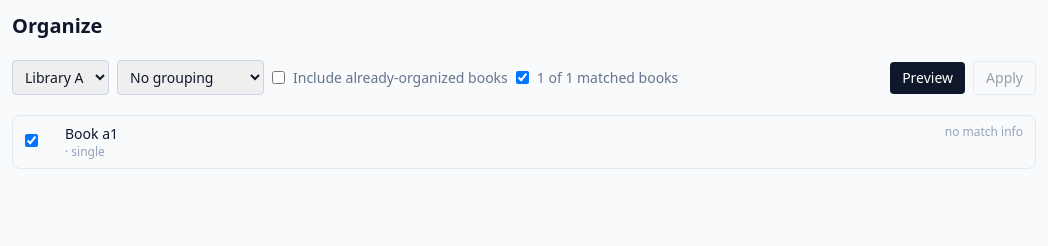
OrganizePage all-no-op plan › disables Apply and explains when every selected book was actually skipped
The width and height of the screenshot is (1048, 246).
Expected: the text "1 of 1 matched books" is shown, [537,68,678,88]
What coordinates should you click on to do the following:
click the button "Preview"
I would click on:
 (928, 78)
Its box is [890,62,965,94].
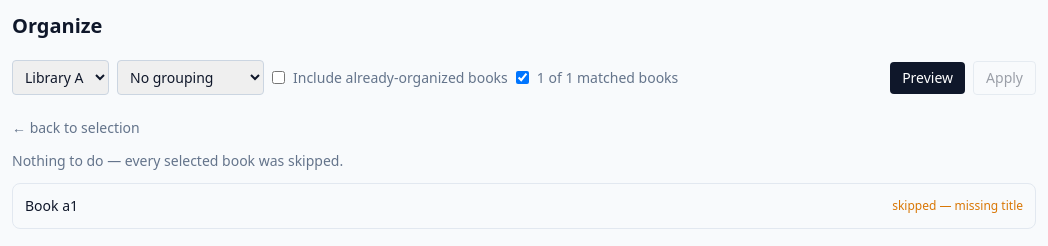
Expected: the button "Apply" is disabled, [973,60,1036,94]
Expected: the text "Nothing to do — every selected book was skipped." is shown, [12,151,343,170]
